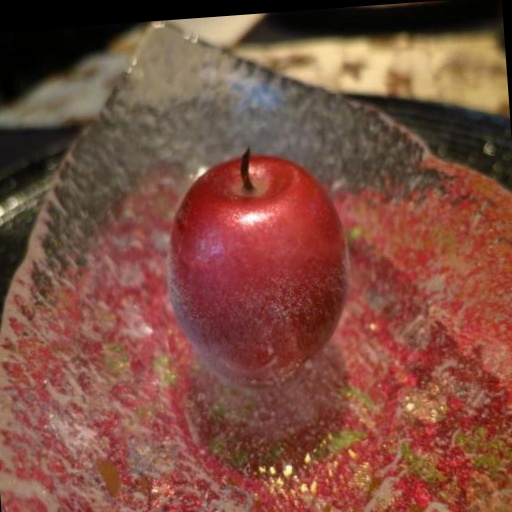fruit: (168, 152, 346, 384)
